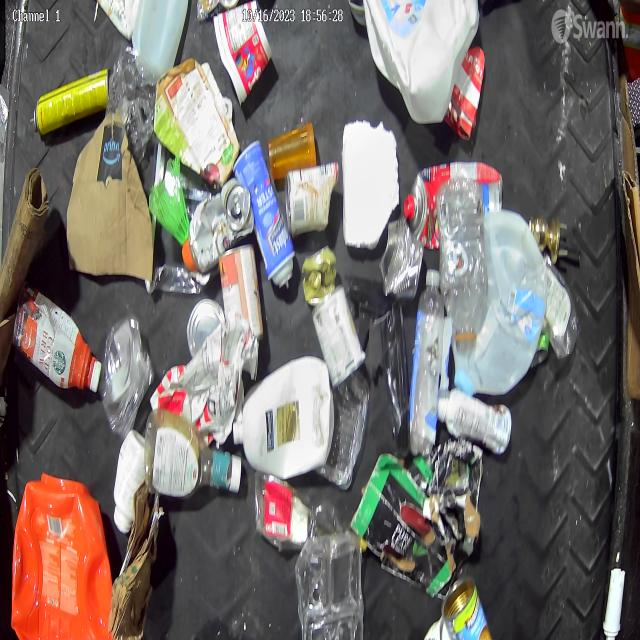can: (233, 140, 295, 290), (190, 178, 254, 274), (30, 66, 110, 138), (311, 284, 367, 384), (218, 243, 264, 343), (284, 160, 339, 238), (378, 218, 423, 298), (441, 573, 493, 640), (300, 244, 338, 308), (187, 297, 226, 358)
milk_jug: (452, 211, 550, 395), (364, 0, 480, 122), (232, 356, 333, 480), (134, 0, 190, 86)
non_white_jug: (11, 470, 113, 640), (12, 283, 102, 397)
plastic_bottle: (436, 177, 486, 354), (407, 268, 444, 457)
